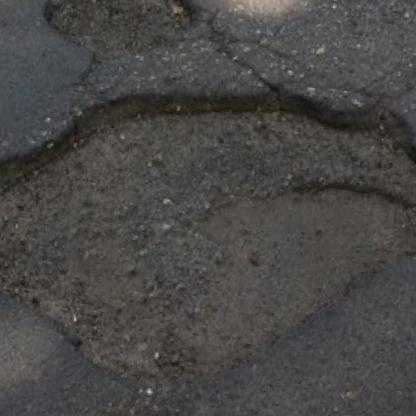pothole: (0, 35, 416, 416), (39, 0, 201, 73)
